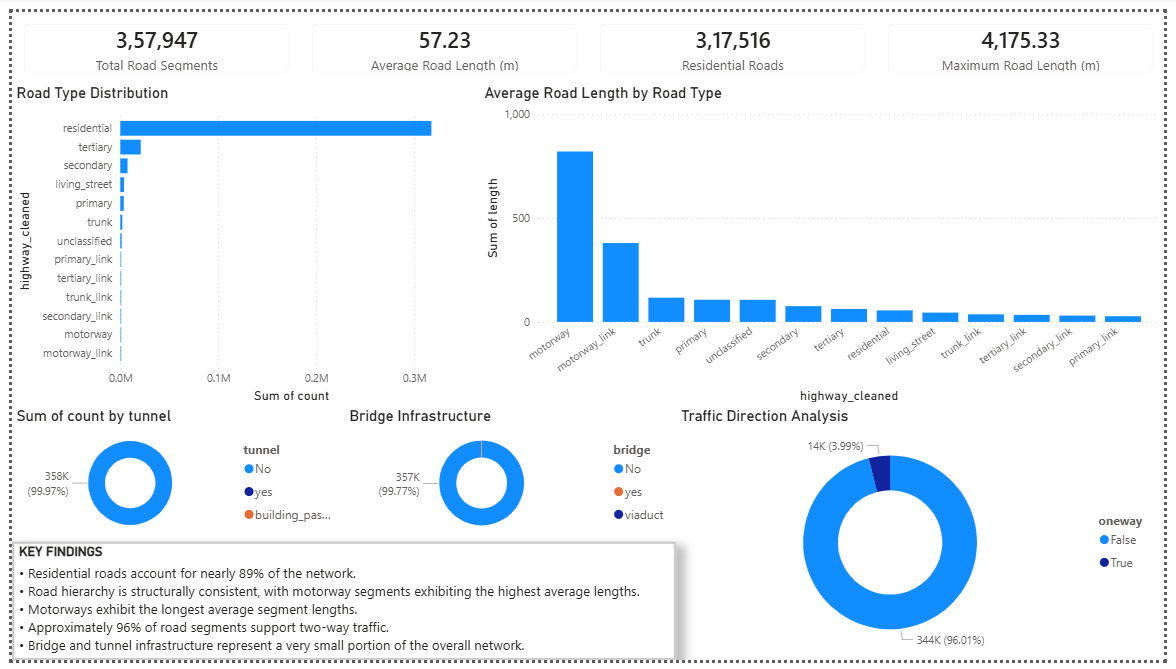

This screenshot's page, from the dashboard's own definition file:
{"tool":"powerbi","page":{"name":"Road Network Structure Analysis","canvas":[1280,720],"ordinal":1},"visuals":[{"type":"cardVisual","fields":{"Data":["validation_summary.Total Road Segments"]},"box":[0,0,320,80],"z":0},{"type":"cardVisual","fields":{"Data":["average_length_by_type.Average Road Length"]},"box":[320,0,320,80],"z":1000},{"type":"cardVisual","fields":{"Data":["average_length_by_type.Maximum Road Length"]},"box":[960,0,320,80],"z":2000},{"type":"cardVisual","fields":{"Data":["average_length_by_type.Residential Roads"]},"box":[640,0,320,80],"z":3000},{"type":"clusteredBarChart","title":"Road Type Distribution","fields":{"Category":["road_type_distribution.highway_cleaned"],"Y":["Sum(road_type_distribution.count)"]},"box":[0,80,520,358],"z":4000},{"type":"clusteredColumnChart","title":"Average Road Length by Road Type","fields":{"Category":["average_length_by_type.highway_cleaned"],"Y":["Sum(average_length_by_type.length)"]},"box":[520,80,760,358],"z":5000},{"type":"donutChart","title":"Traffic Direction Analysis","fields":{"Category":["oneway_analysis.oneway"],"Y":["Sum(oneway_analysis.count)"]},"box":[738,438,542,282],"z":6000},{"type":"donutChart","title":"Bridge Infrastructure","fields":{"Category":["bridge_analysis.bridge"],"Y":["Sum(bridge_analysis.count)"]},"box":[370,438,368,150],"z":7000},{"type":"donutChart","fields":{"Y":["Sum(tunnel_analysis.count)"],"Category":["tunnel_analysis.tunnel"]},"box":[0,438,370,150],"z":7001},{"type":"textbox","title":"KEY FINDINGS","box":[0,588,738,132],"z":7002}]}

Visuals, with their boxes in screenshot pixels (x1, y1, x2, y2), scaled from the page's 1280x720 canvas onto the 1176x669 screenshot:
cardVisual - validation_summary.Total Road Segments: BBox(0, 0, 294, 74)
cardVisual - average_length_by_type.Average Road Length: BBox(294, 0, 588, 74)
cardVisual - average_length_by_type.Maximum Road Length: BBox(882, 0, 1175, 74)
cardVisual - average_length_by_type.Residential Roads: BBox(588, 0, 882, 74)
"Road Type Distribution" clusteredBarChart: BBox(0, 74, 478, 407)
"Average Road Length by Road Type" clusteredColumnChart: BBox(478, 74, 1175, 407)
"Traffic Direction Analysis" donutChart: BBox(678, 407, 1175, 668)
"Bridge Infrastructure" donutChart: BBox(340, 407, 678, 546)
donutChart - Sum(tunnel_analysis.count) x tunnel_analysis.tunnel: BBox(0, 407, 340, 546)
"KEY FINDINGS" textbox: BBox(0, 546, 678, 668)
